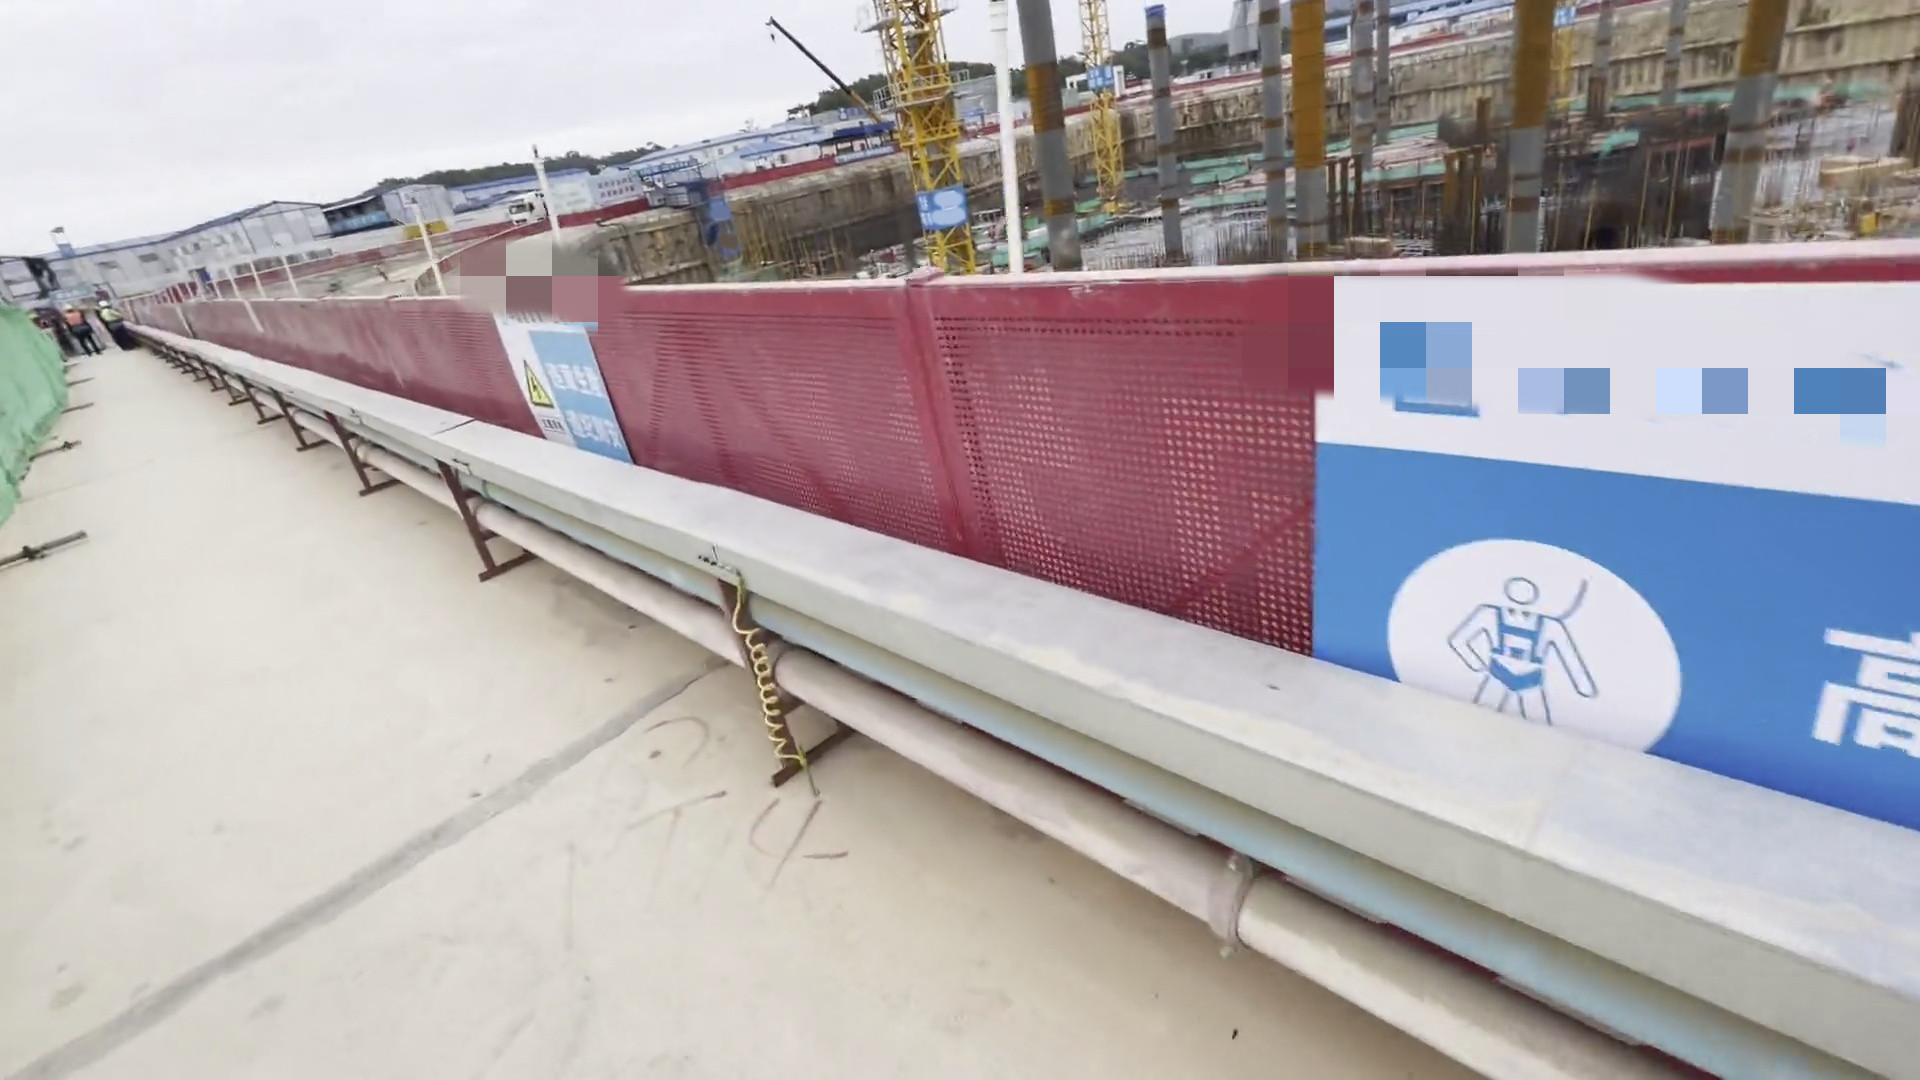fence: (72, 256, 1305, 698)
person: (93, 293, 152, 367), (57, 294, 99, 365)
slogan: (1316, 294, 1920, 762), (481, 307, 694, 517)
